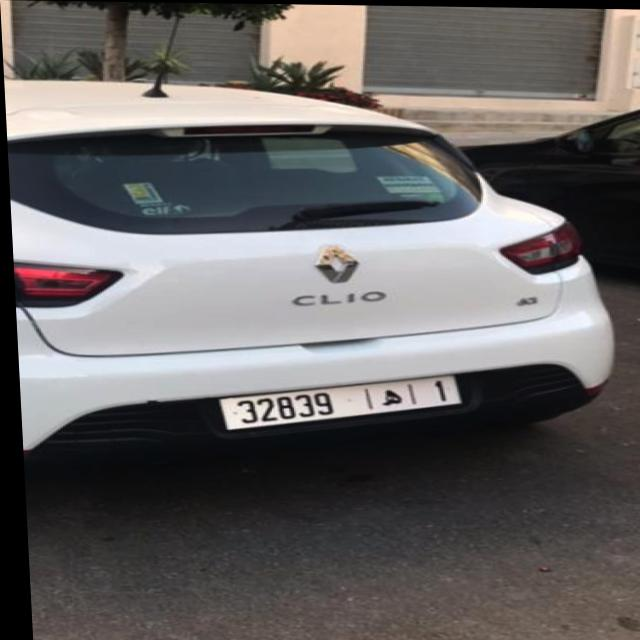License-Plate: (214, 374, 458, 429)
